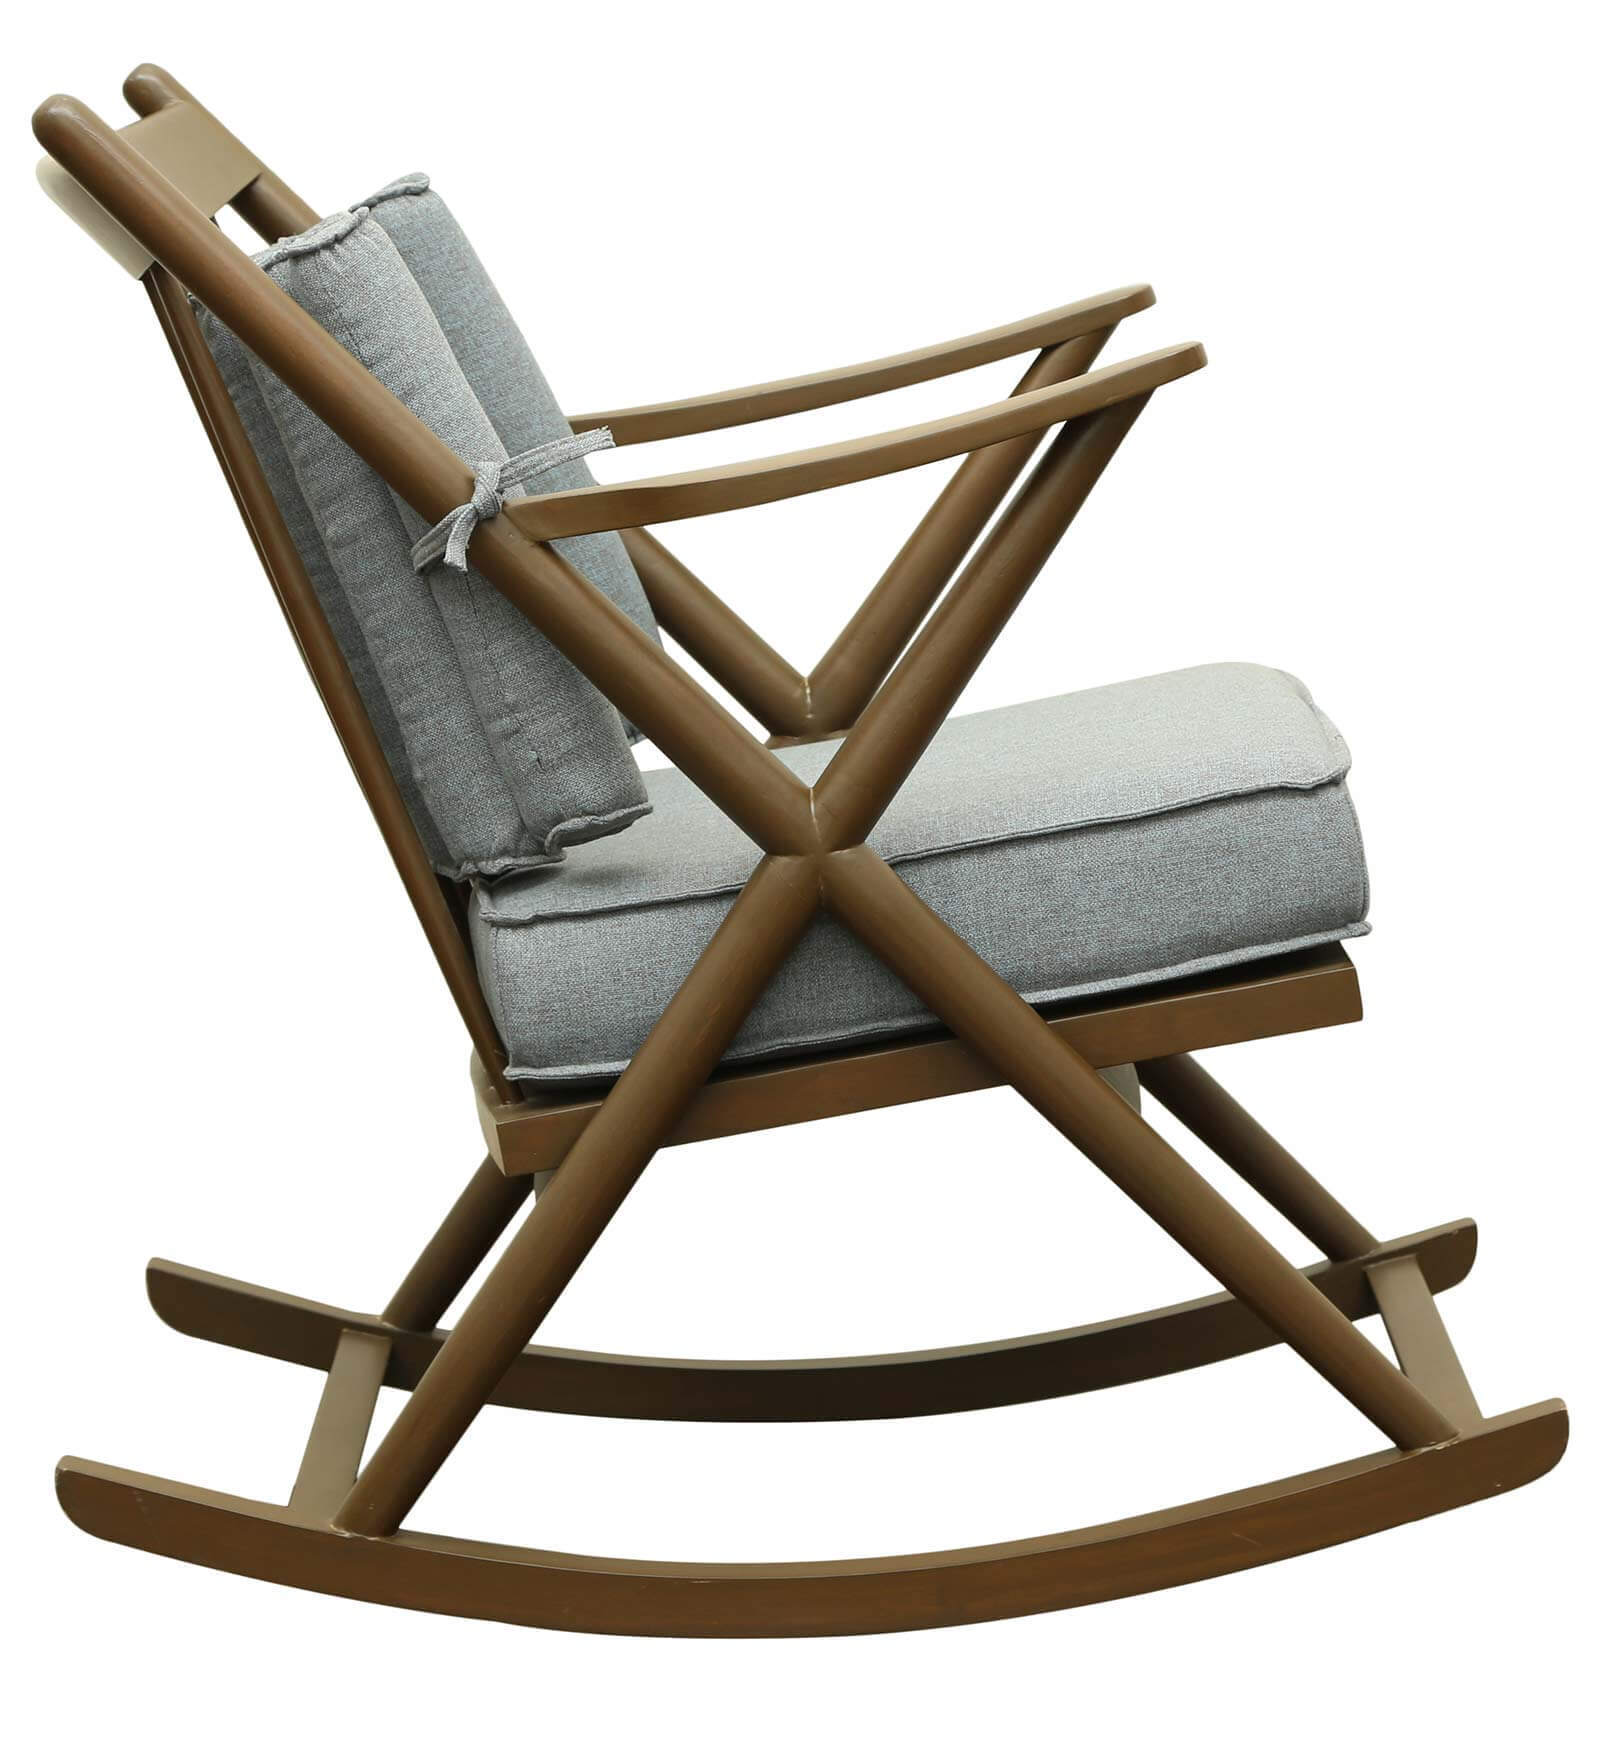Standard Rocking Chair in Grey & Brown Colour Combo by INDOORS: (26, 40, 1600, 1671)
